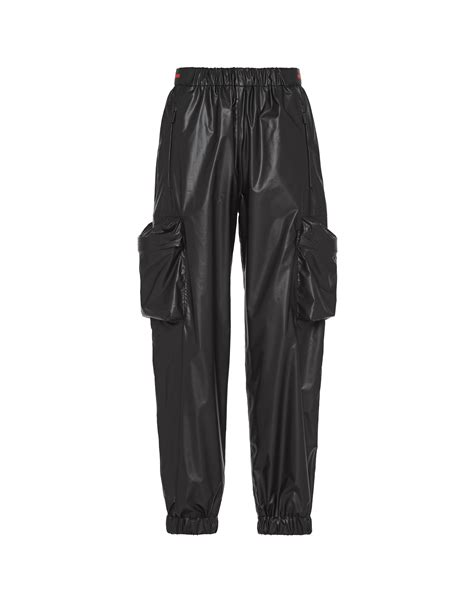nylon: (135, 66, 338, 537)
